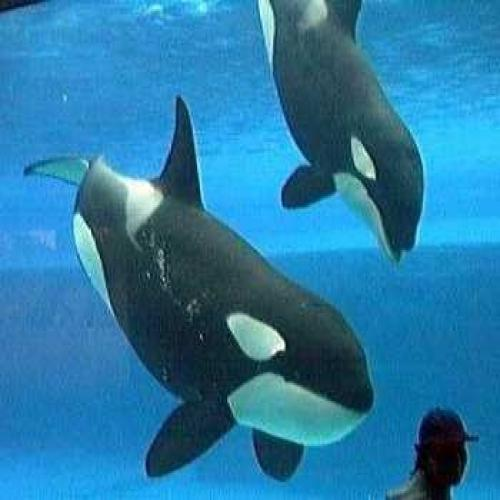killer_whale-endangered: (30, 115, 394, 465), (237, 0, 444, 276)
